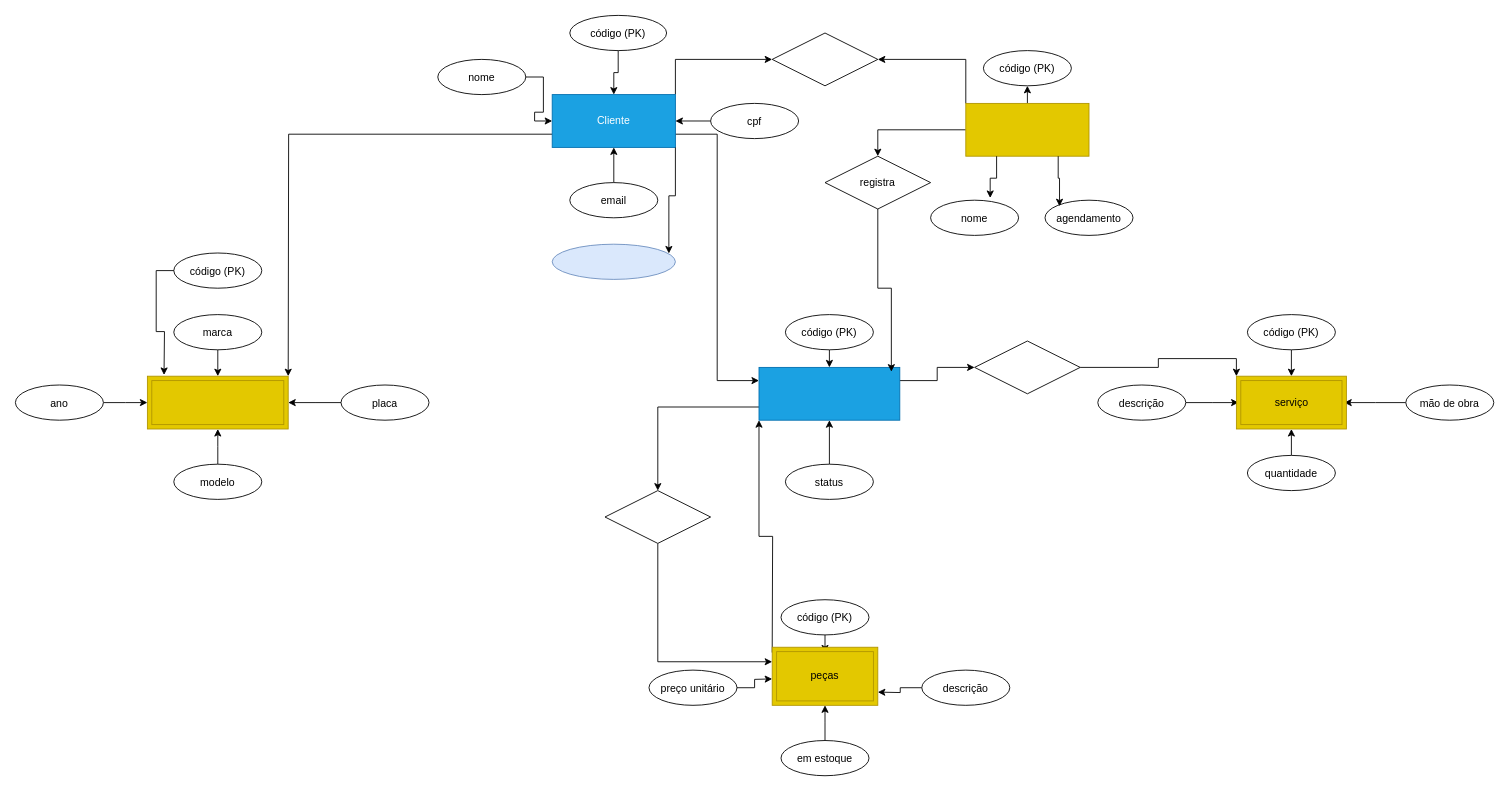
Image size: 1509x791. Some labels were removed from this diagram. Here are the shapes that lost their labels. From the top down, the centre of each, then its label:
At (824,59): "procura".
At (1027,129): "Atendente".
At (613,261): "telefone (multivalorado)".
At (1027,367): "inclui".
At (217,402): "veiculo do cliente".
At (829,393): "Ordem de Serviço".
At (657,516): "utiliza".
